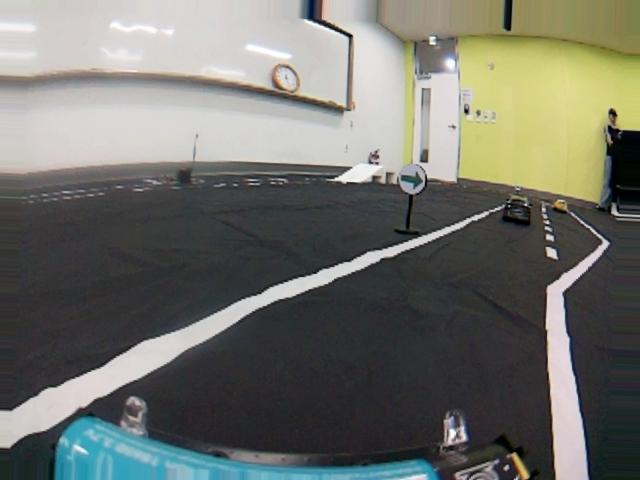car: (501, 195, 534, 225), (551, 198, 570, 214)
right: (4, 243, 634, 480)
